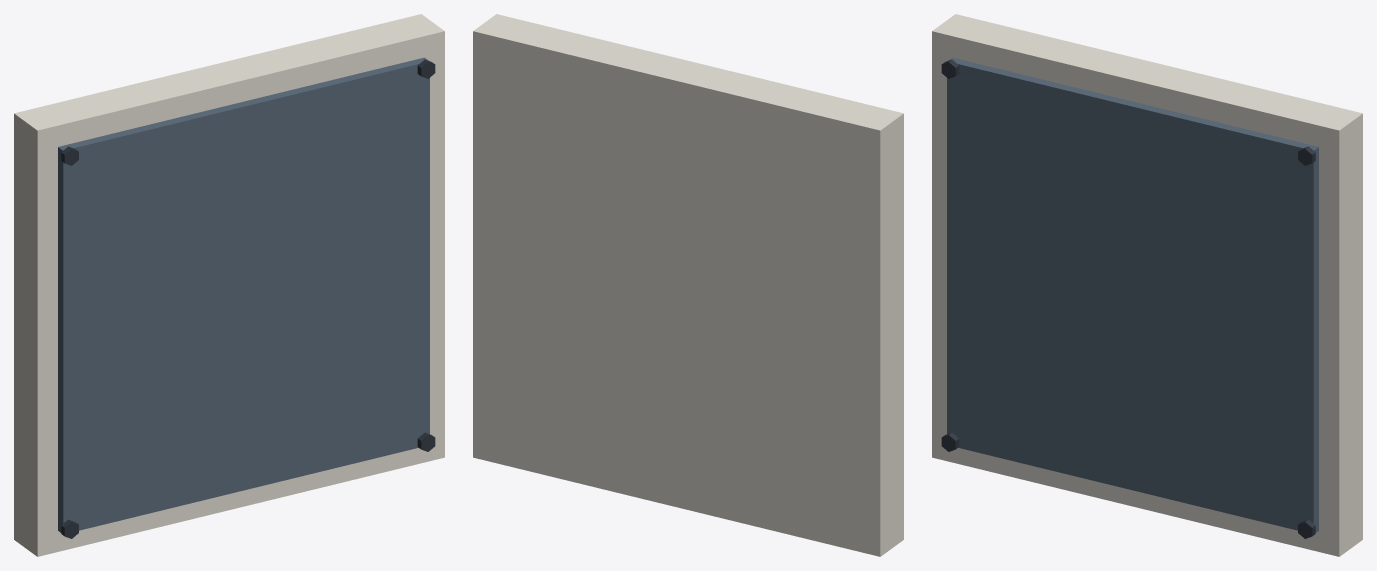
File: robot_armor_plate.glb
3 renders of one model, left to right at view 1: azimuth 30°, elevation 25°; view 2: azimuth 150°, elevation 25°; view 3: azimuth 330°, elevation 25°, orthographic.
Parts seen in each view (by area): view 1: robot_armor_plate_steel, robot_armor_plate_armor, robot_armor_plate_steelDark; view 2: robot_armor_plate_armor; view 3: robot_armor_plate_steel, robot_armor_plate_armor, robot_armor_plate_steelDark.
Boxes of the visible parts, left/top/right/bottom form: robot_armor_plate_steel: left=58, top=57, right=429, bottom=532; robot_armor_plate_armor: left=14, top=14, right=444, bottom=556; robot_armor_plate_steelDark: left=61, top=59, right=435, bottom=538; robot_armor_plate_armor: left=473, top=14, right=903, bottom=556; robot_armor_plate_steel: left=947, top=57, right=1318, bottom=532; robot_armor_plate_armor: left=932, top=14, right=1362, bottom=556; robot_armor_plate_steelDark: left=941, top=59, right=1315, bottom=538.
Bounding box in the file's own units: 4 × 4 × 0.55.
